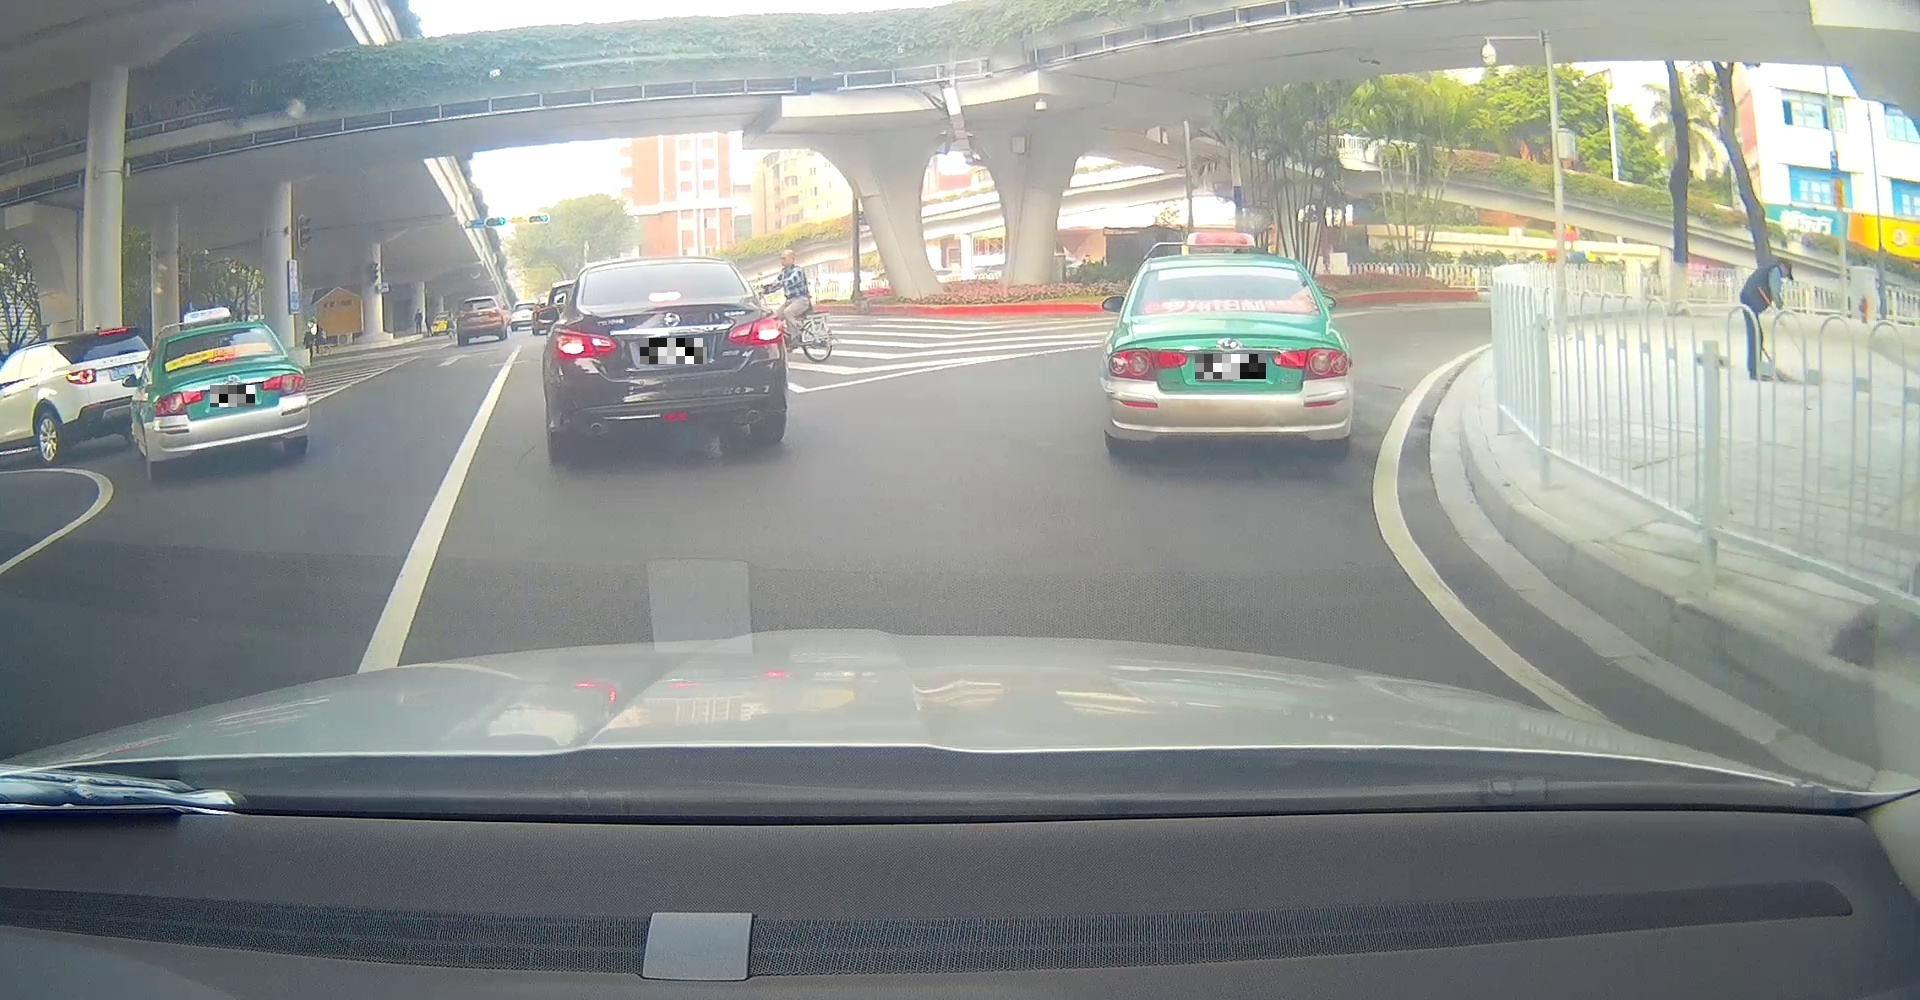L_light: (1109, 348, 1186, 382), (554, 329, 615, 360), (154, 390, 202, 416), (458, 313, 469, 320)
R_light: (1272, 348, 1349, 379), (728, 312, 785, 346), (262, 373, 307, 396), (489, 310, 500, 316)
T_light: (648, 291, 681, 303), (1208, 303, 1244, 312), (207, 353, 237, 363), (474, 299, 481, 302)
day-brake: (549, 256, 787, 462), (151, 320, 311, 484)
day-no: (1100, 254, 1352, 458), (456, 294, 504, 346)
plate_1: (210, 385, 255, 407)
plate_2: (640, 338, 707, 364)
plate_3: (1195, 354, 1266, 379)
